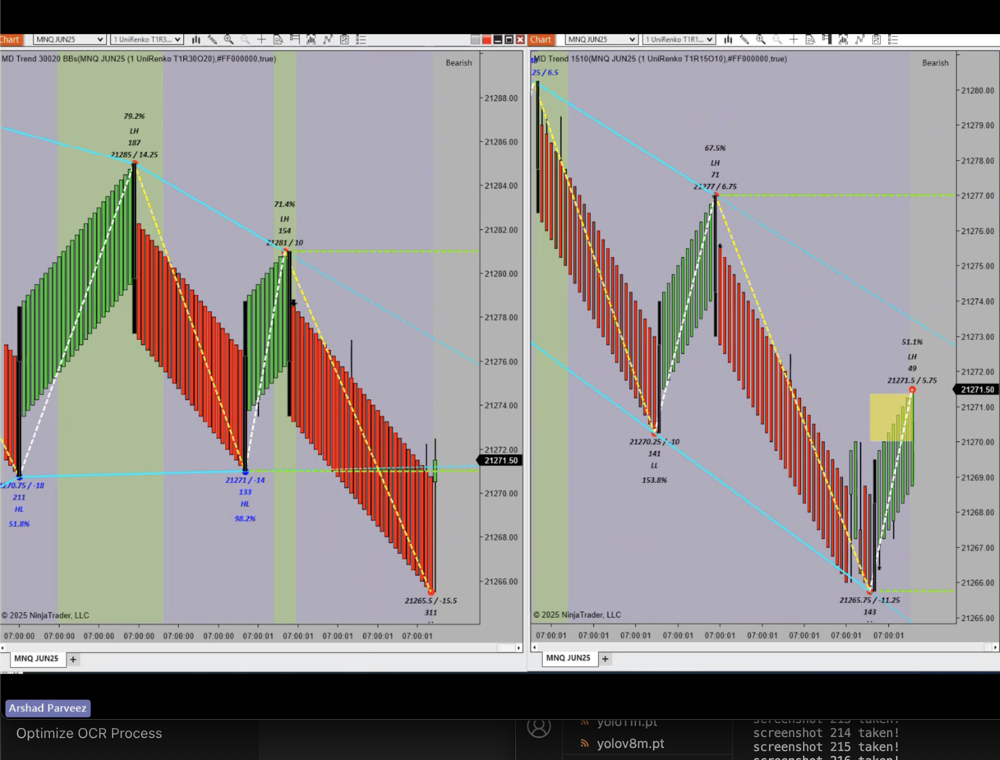HL: (231, 495, 264, 515), (8, 500, 31, 517)
LH: (274, 206, 300, 230), (702, 155, 731, 171), (123, 123, 148, 140), (902, 347, 926, 364)
LL: (644, 456, 668, 475)
